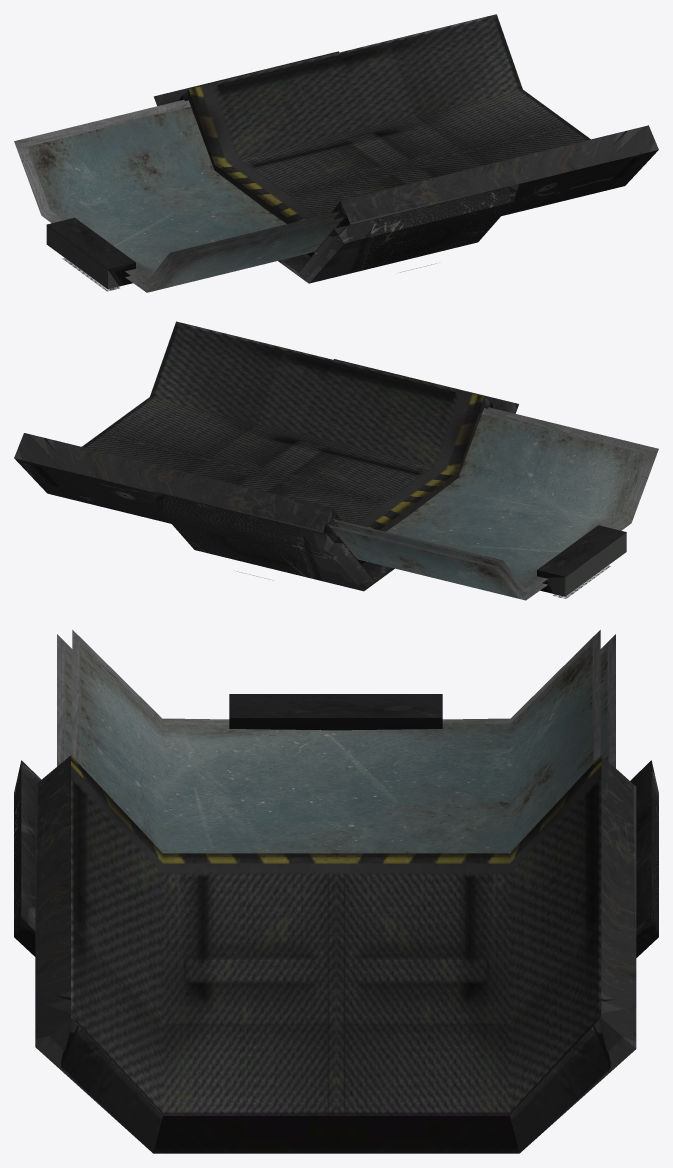
File: t6_wpn_shield_stow_world_LOD2.obj
3 views of the same model, one above another, from view 1: azimuth 30°, elevation 25°; view 2: azimuth 150°, elevation 25°; view 3: azimuth 270°, elevation 25° (orthographic). The views are drawn at different scales.
Visible parts, largest first — view 1: mtl_t6_wpn_shield, mtl_t6_wpn_shield_glass, mtl_t6_wpn_shield_camo1, mtl_t6_wpn_shield_camo2, mtl_t6_wpn_shield_nodecal; view 2: mtl_t6_wpn_shield, mtl_t6_wpn_shield_glass, mtl_t6_wpn_shield_camo1, mtl_t6_wpn_shield_camo2, mtl_t6_wpn_shield_nodecal; view 3: mtl_t6_wpn_shield, mtl_t6_wpn_shield_glass, mtl_t6_wpn_shield_camo1, mtl_t6_wpn_shield_nodecal.
Boxes of the visible parts, x1,y1,x2,y2 form: mtl_t6_wpn_shield: (46, 14, 590, 291); mtl_t6_wpn_shield_glass: (14, 100, 344, 292); mtl_t6_wpn_shield_camo1: (178, 89, 658, 283); mtl_t6_wpn_shield_camo2: (309, 150, 658, 283); mtl_t6_wpn_shield_nodecal: (153, 51, 339, 272); mtl_t6_wpn_shield: (82, 321, 626, 598); mtl_t6_wpn_shield_glass: (328, 407, 658, 600); mtl_t6_wpn_shield_camo1: (14, 397, 494, 590); mtl_t6_wpn_shield_camo2: (14, 458, 363, 591); mtl_t6_wpn_shield_nodecal: (333, 359, 518, 579); mtl_t6_wpn_shield: (71, 694, 601, 1115); mtl_t6_wpn_shield_glass: (57, 630, 615, 853); mtl_t6_wpn_shield_camo1: (14, 755, 658, 1153); mtl_t6_wpn_shield_nodecal: (21, 760, 651, 931).
Bounding box in the file's own units: 115 × 21.46 × 74.09.
